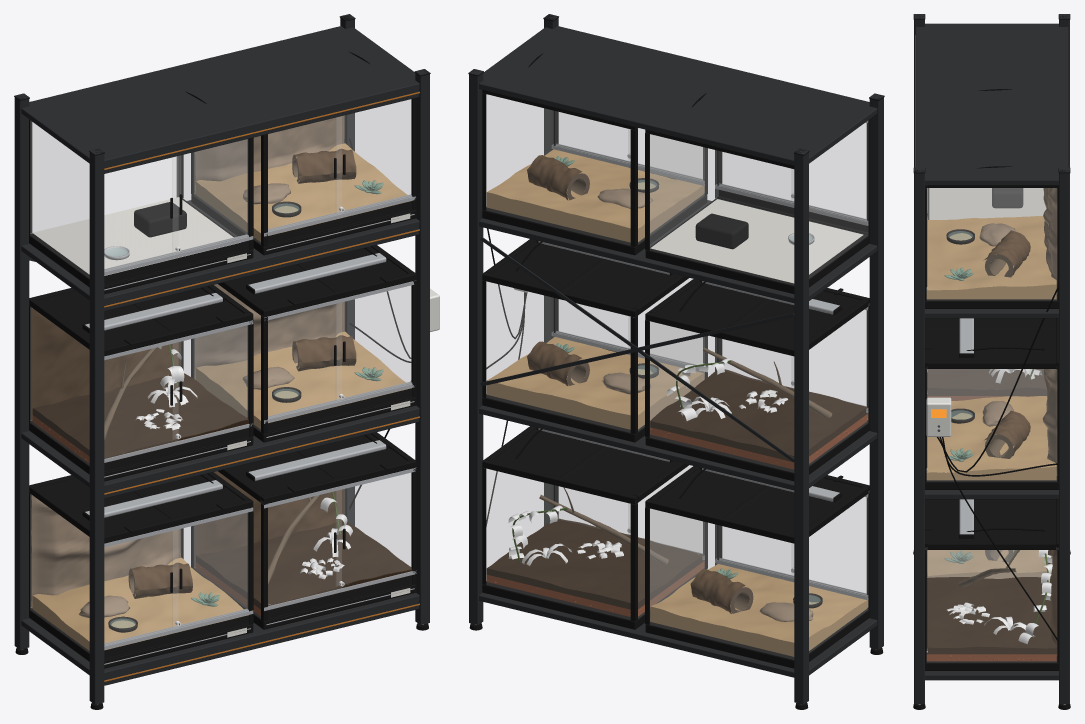
Rendered from rack_glass.glb.
3 renders of one model, left to right at view 1: azimuth 30°, elevation 25°; view 2: azimuth 150°, elevation 25°; view 3: azimuth 270°, elevation 25°, orthographic. The views are drawn at different scales.
Parts seen in each view (by area): view 1: rack_glass__glass__noshadow, rack_glass__steel_graphite, rack_glass__sand__noshadow, rack_glass__frame_black, rack_glass__rock__noshadow, rack_glass__soil__noshadow, rack_glass__mesh_screen__noshadow, rack_glass__cork__noshadow, rack_glass__aluminium, rack_glass__plastic_black, rack_glass__perforated__noshadow, rack_glass__paper__noshadow (+9 smaller); view 2: rack_glass__glass__noshadow, rack_glass__steel_graphite, rack_glass__sand__noshadow, rack_glass__mesh_screen__noshadow, rack_glass__frame_black, rack_glass__soil__noshadow, rack_glass__plastic_black, rack_glass__paper__noshadow, rack_glass__aluminium, rack_glass__cork__noshadow, rack_glass__clay_pebble__noshadow, rack_glass__leaf__noshadow (+5 smaller); view 3: rack_glass__glass__noshadow, rack_glass__steel_graphite, rack_glass__sand__noshadow, rack_glass__soil__noshadow, rack_glass__mesh_screen__noshadow, rack_glass__frame_black, rack_glass__plastic_black, rack_glass__rock__noshadow, rack_glass__paper__noshadow, rack_glass__cork__noshadow, rack_glass__leaf__noshadow, rack_glass__cable_black__noshadow (+8 smaller).
Part boxes in pixels (bbox=[...]): rack_glass__glass__noshadow: bbox=[30, 99, 411, 651]; rack_glass__steel_graphite: bbox=[14, 14, 429, 704]; rack_glass__sand__noshadow: bbox=[32, 143, 411, 650]; rack_glass__frame_black: bbox=[29, 98, 416, 659]; rack_glass__rock__noshadow: bbox=[31, 115, 344, 617]; rack_glass__soil__noshadow: bbox=[32, 373, 412, 610]; rack_glass__mesh_screen__noshadow: bbox=[37, 246, 407, 534]; rack_glass__cork__noshadow: bbox=[31, 148, 356, 598]; rack_glass__aluminium: bbox=[85, 194, 416, 664]; rack_glass__plastic_black: bbox=[14, 14, 430, 668]; rack_glass__perforated__noshadow: bbox=[104, 201, 412, 658]; rack_glass__paper__noshadow: bbox=[32, 197, 240, 275]; rack_glass__glass__noshadow: bbox=[486, 94, 867, 659]; rack_glass__steel_graphite: bbox=[469, 14, 883, 704]; rack_glass__sand__noshadow: bbox=[486, 149, 868, 656]; rack_glass__mesh_screen__noshadow: bbox=[491, 240, 861, 534]; rack_glass__frame_black: bbox=[482, 90, 869, 624]; rack_glass__soil__noshadow: bbox=[486, 369, 868, 609]; rack_glass__plastic_black: bbox=[468, 14, 884, 668]; rack_glass__paper__noshadow: bbox=[650, 199, 863, 283]; rack_glass__aluminium: bbox=[538, 120, 868, 600]; rack_glass__cork__noshadow: bbox=[527, 155, 745, 613]; rack_glass__clay_pebble__noshadow: bbox=[486, 413, 868, 616]; rack_glass__leaf__noshadow: bbox=[508, 358, 787, 565]; rack_glass__glass__noshadow: bbox=[925, 188, 1058, 661]; rack_glass__steel_graphite: bbox=[914, 14, 1069, 703]; rack_glass__sand__noshadow: bbox=[926, 216, 1056, 578]; rack_glass__soil__noshadow: bbox=[926, 369, 1056, 654]; rack_glass__mesh_screen__noshadow: bbox=[928, 318, 1055, 541]; rack_glass__frame_black: bbox=[925, 185, 1058, 662]; rack_glass__plastic_black: bbox=[913, 14, 1070, 670]; rack_glass__rock__noshadow: bbox=[979, 188, 1057, 475]; rack_glass__paper__noshadow: bbox=[929, 188, 1046, 219]; rack_glass__cork__noshadow: bbox=[983, 230, 1057, 655]; rack_glass__leaf__noshadow: bbox=[946, 369, 1052, 644]; rack_glass__cable_black__noshadow: bbox=[937, 89, 1058, 642].
Bounding box in the file's own units: 1.27 × 1.9 × 0.505.
